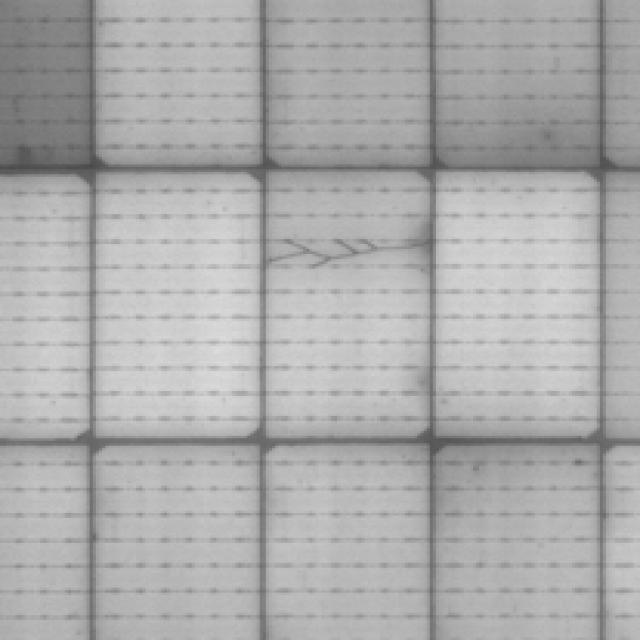CRACK: (266, 204, 424, 292)
